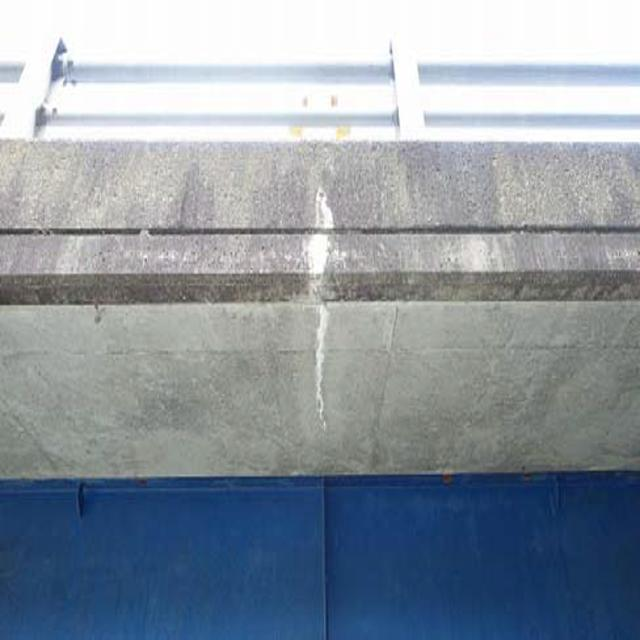freelime: (303, 161, 347, 413)
